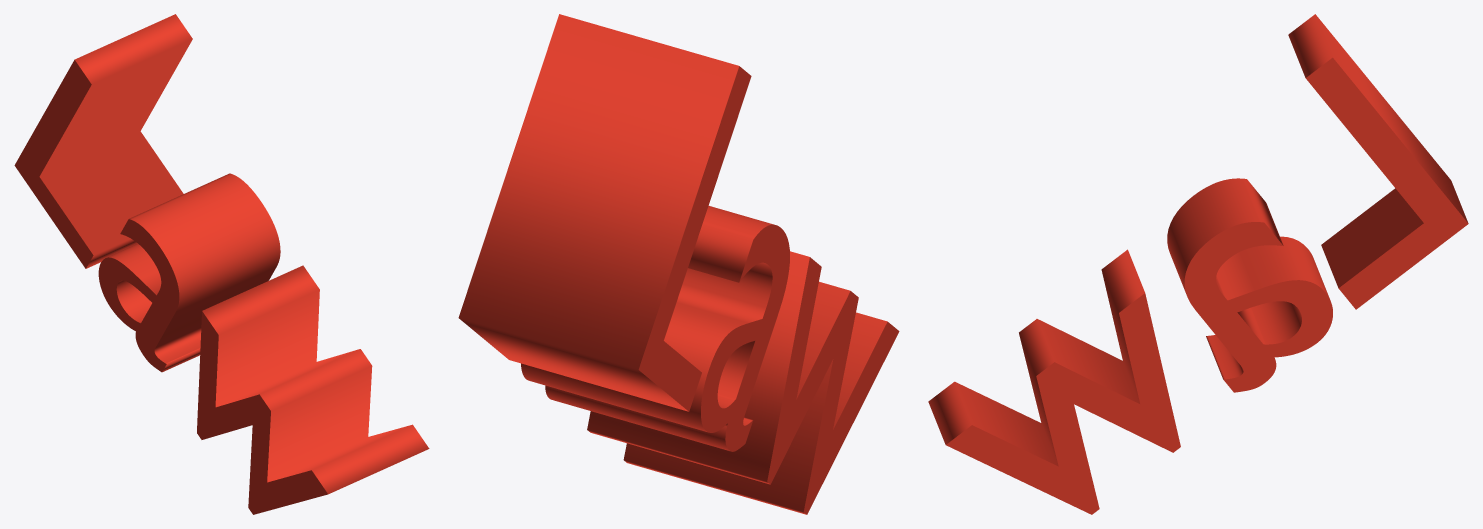
File: law.glb
3 views of the same model, side by side, from view 1: azimuth 30°, elevation 25°; view 2: azimuth 150°, elevation 25°; view 3: azimuth 270°, elevation 25° (orthographic). The views are drawn at different scales.
Visible parts, largest first — view 1: Text.004; view 2: Text.004; view 3: Text.004.
Boxes of the visible parts, <box> form: Text.004: <box>14,14,429,514</box>; Text.004: <box>458,14,899,514</box>; Text.004: <box>928,14,1468,514</box>.
Bounding box in the file's own units: 2.87 × 6.02 × 6.76.
